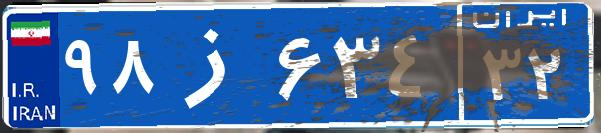2: (525, 38, 570, 115)
3: (330, 28, 385, 110), (475, 38, 525, 113)
4: (385, 28, 445, 110)
6: (273, 28, 330, 110)
8: (110, 28, 158, 105)
9: (57, 26, 110, 107)
ز: (158, 15, 273, 115)
